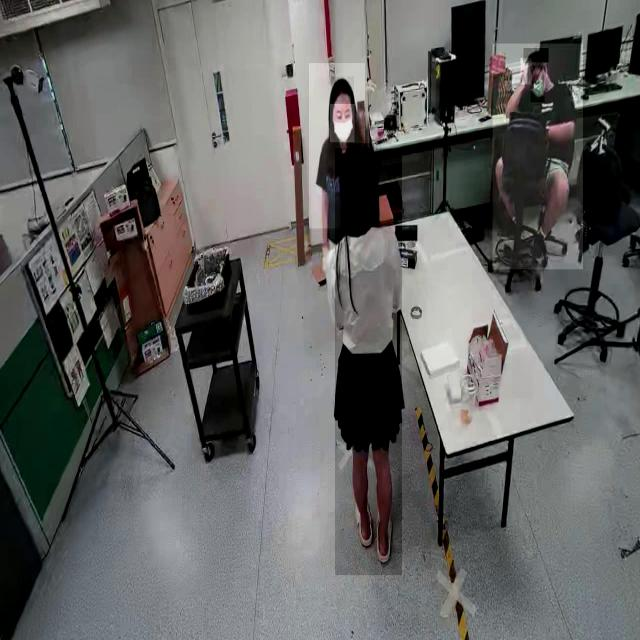face_mask: (330, 104, 354, 142), (530, 66, 544, 103)
hand_noglove: (520, 58, 532, 85)
head_nohelmet: (340, 143, 382, 173), (330, 77, 354, 103), (523, 48, 549, 63)
person: (334, 148, 402, 576), (492, 44, 583, 270), (309, 63, 365, 229)
